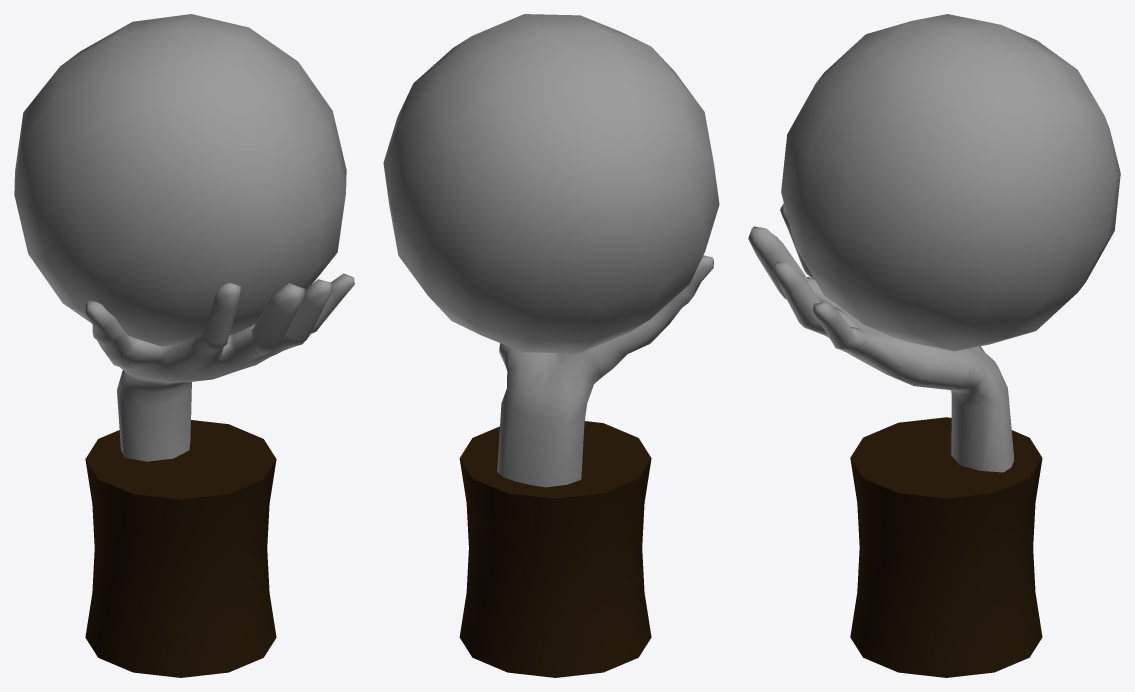
File: copa_Liga_basket.FBX
3 views of the same model, side by side, from view 1: azimuth 30°, elevation 25°; view 2: azimuth 150°, elevation 25°; view 3: azimuth 270°, elevation 25° (orthographic).
Visible parts, largest first — view 1: copa_Liga_basket; view 2: copa_Liga_basket; view 3: copa_Liga_basket.
Boxes of the visible parts, box(x1,y1,x2,y2) form: copa_Liga_basket: box(14, 14, 354, 677); copa_Liga_basket: box(383, 14, 719, 677); copa_Liga_basket: box(748, 14, 1120, 677).
Bounding box in the file's own units: 57.17 × 113 × 62.38.
